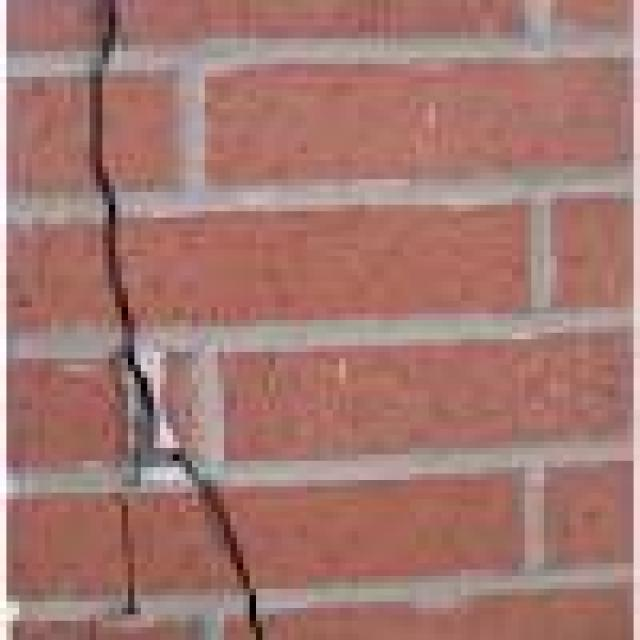Crack: (70, 0, 262, 634)
